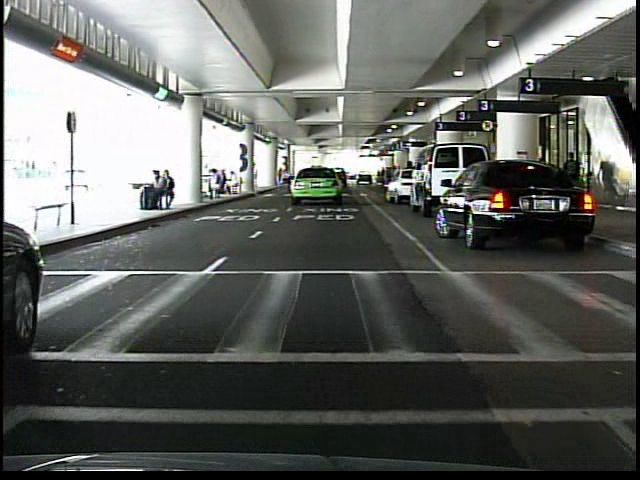person: (560, 149, 585, 212)
